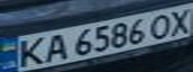5: (90, 23, 115, 53)
6: (69, 26, 97, 56), (127, 16, 154, 45)
8: (109, 19, 133, 48)
A: (39, 32, 72, 62)
K: (12, 35, 51, 69)
O: (145, 11, 178, 39)
X: (163, 6, 193, 36)
